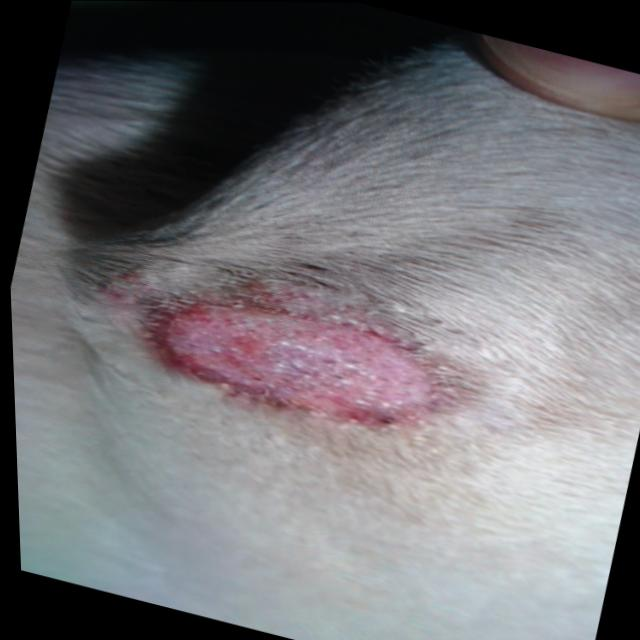ringworm: (105, 232, 504, 493)
